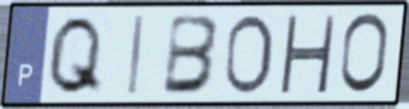B: (159, 12, 223, 98)
H: (276, 13, 339, 96)
I: (125, 12, 147, 97)
O: (337, 10, 392, 97), (221, 12, 275, 97)
Q: (44, 12, 106, 97)
